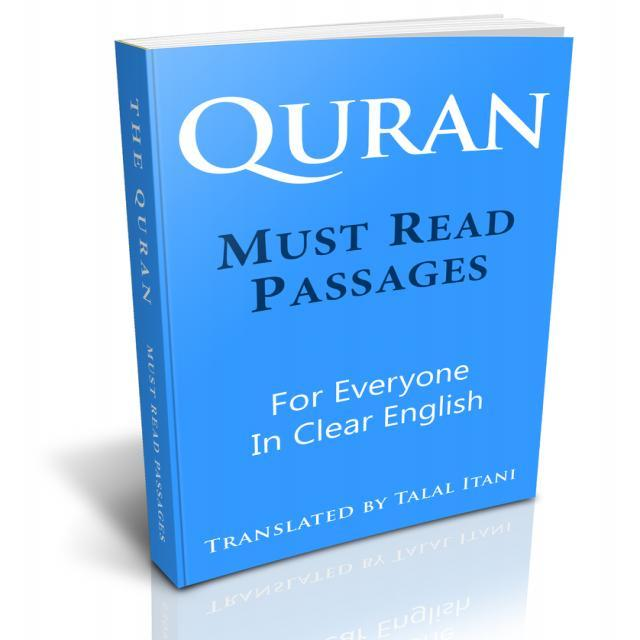book: (118, 14, 572, 590)
